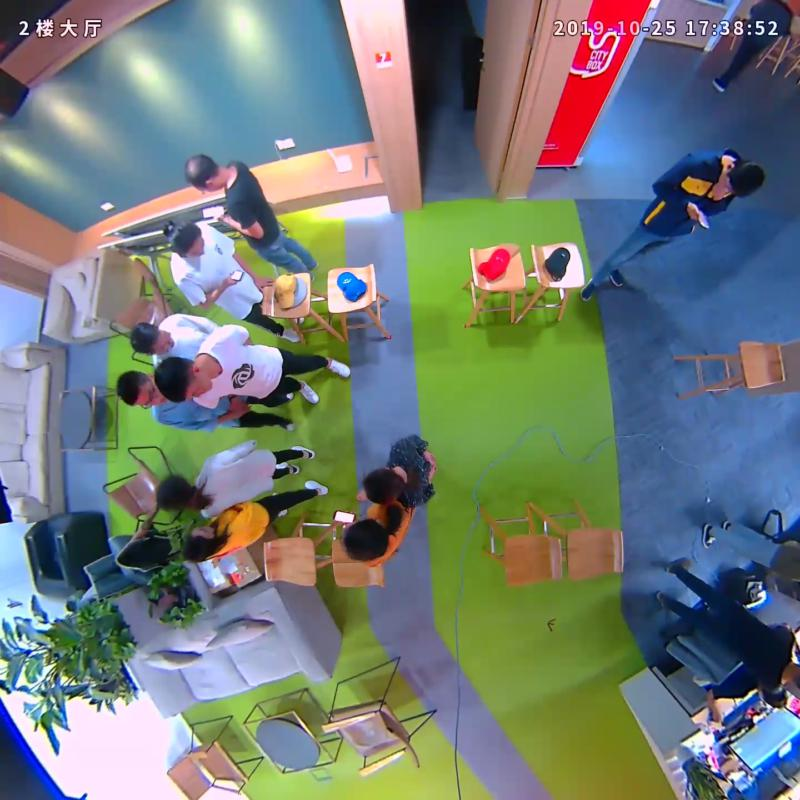head: (154, 356, 214, 403), (341, 517, 389, 562), (116, 370, 166, 409), (719, 162, 765, 198), (363, 466, 405, 505), (184, 153, 224, 192), (129, 321, 174, 355), (155, 476, 194, 512), (182, 524, 217, 563), (169, 221, 206, 257)
